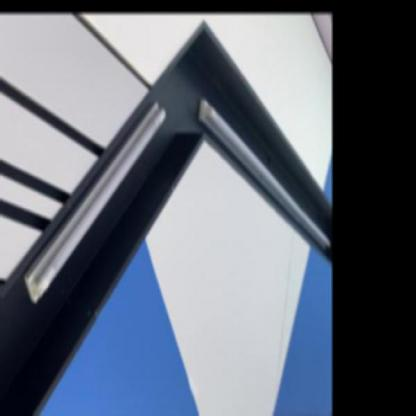light_off: (18, 82, 172, 306), (193, 79, 330, 281)
